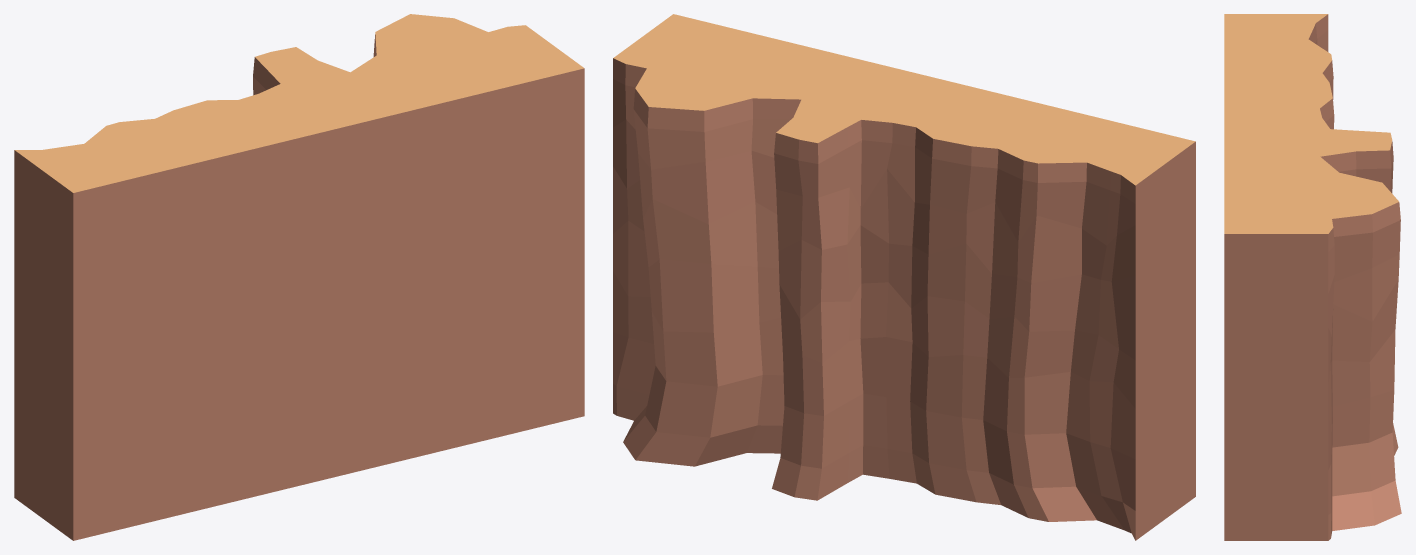
Rendered from Canyon_1.fbx.
3 views of the same model, side by side, from view 1: azimuth 30°, elevation 25°; view 2: azimuth 150°, elevation 25°; view 3: azimuth 270°, elevation 25° (orthographic). The views are drawn at different scales.
Visible parts, largest first — view 1: Plane; view 2: Plane; view 3: Plane.
Part boxes in pixels (left/top/right/bottom): Plane: left=14, top=14, right=584, bottom=540; Plane: left=613, top=14, right=1195, bottom=540; Plane: left=1224, top=14, right=1401, bottom=540.
Bounding box in the file's own units: 100 × 65 × 34.08.
